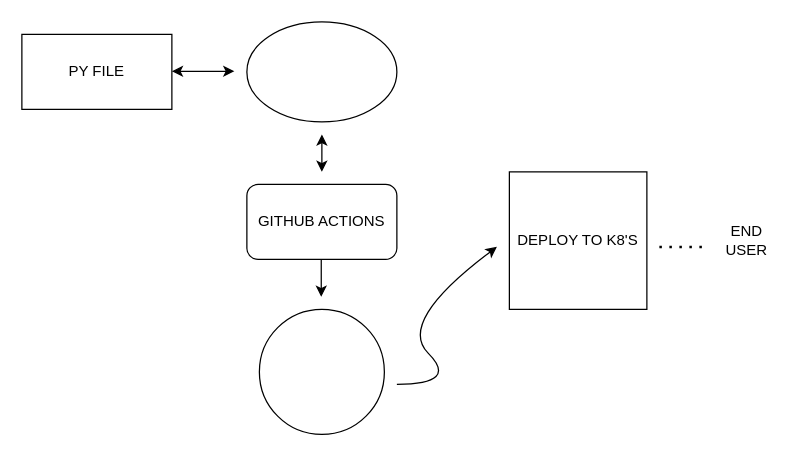
Image size: 806x456. Some labels were removed from this diagram. Each missing label, with the centre of its shape:
"DOCKER" goes at point (321, 71).
"DOCKER REGISTRY" goes at point (321, 371).
